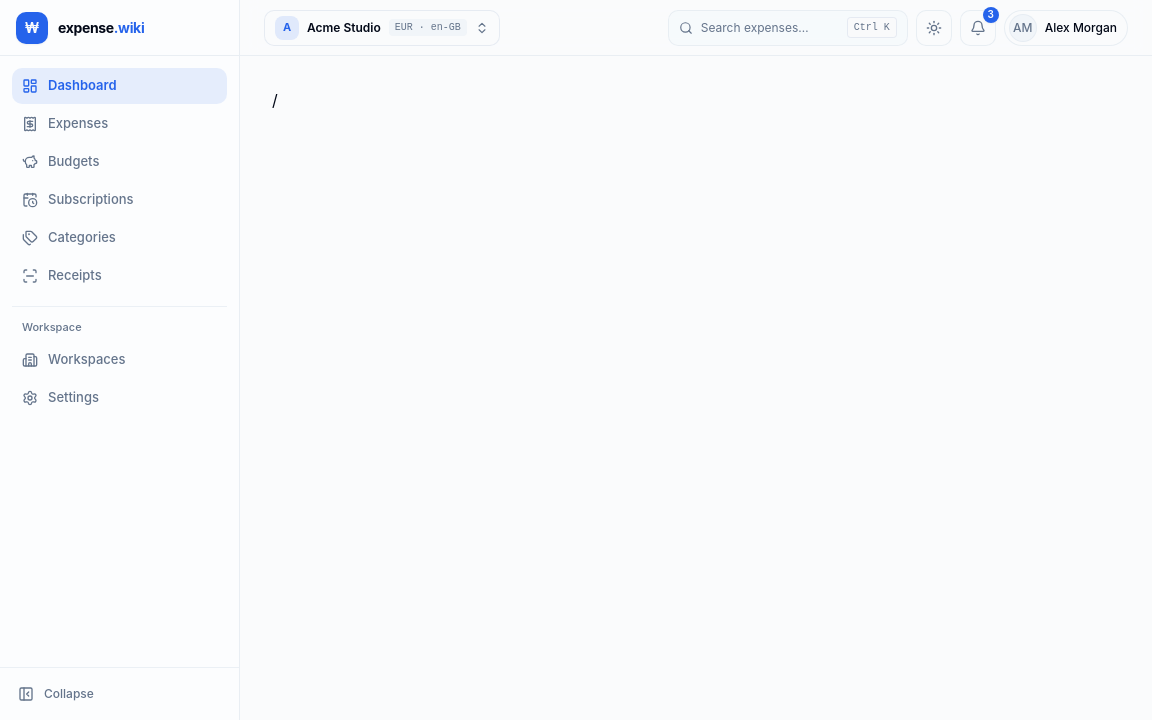
Test case: AppShell, Header, and Sidebar layout › marks notifications as read and removes broken /dashboard footer link
Click the button named "Notifications (3 unread)". click: (978, 28)
box: [960, 10, 996, 46]
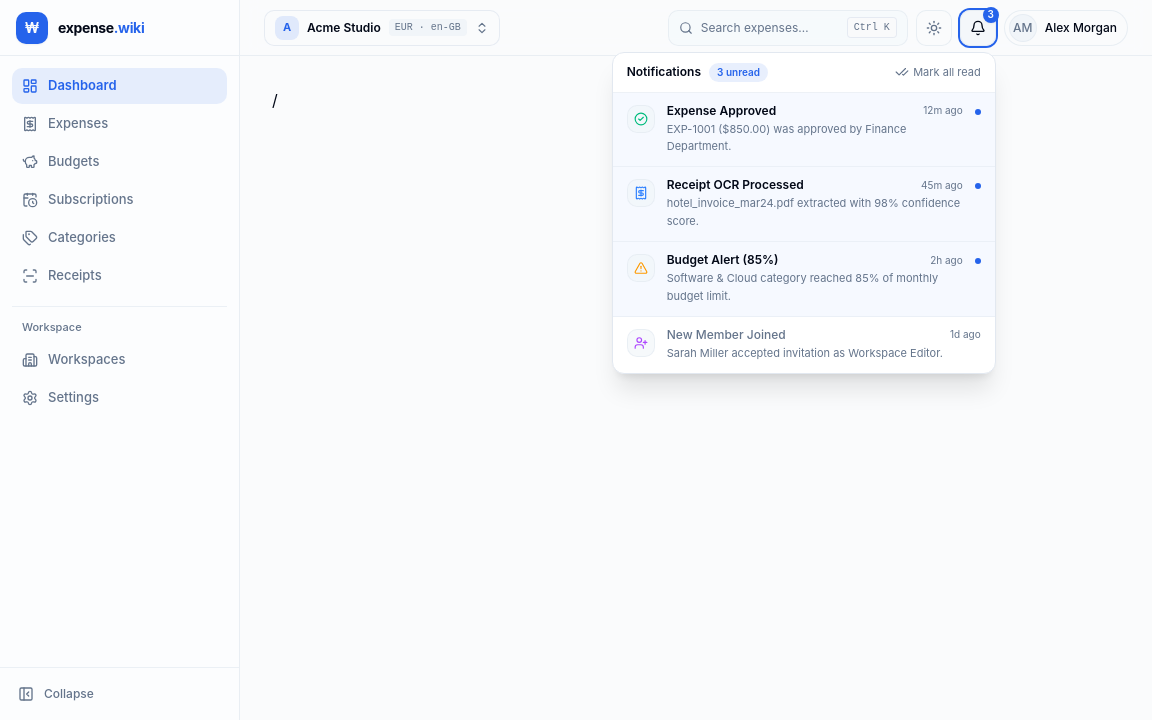
Click the button "Mark all read". click: (938, 72)
box: [895, 64, 981, 80]
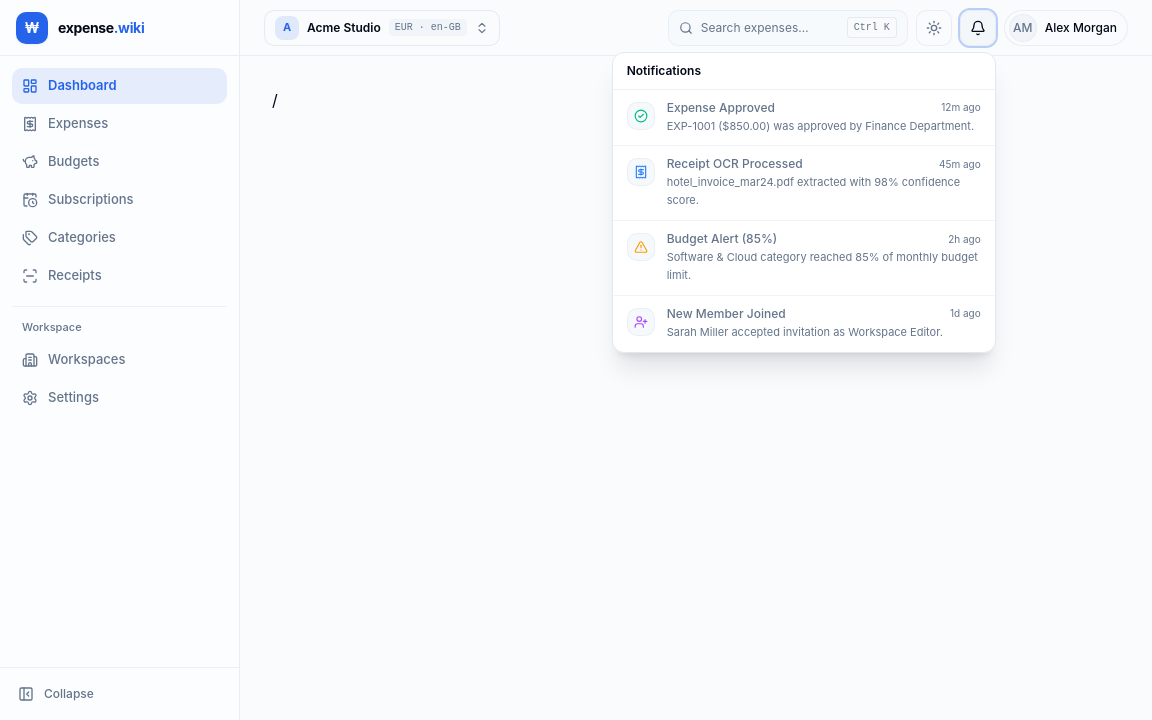
Expected: the button named "Notifications" is shown, [960, 10, 996, 46]
Press Escape
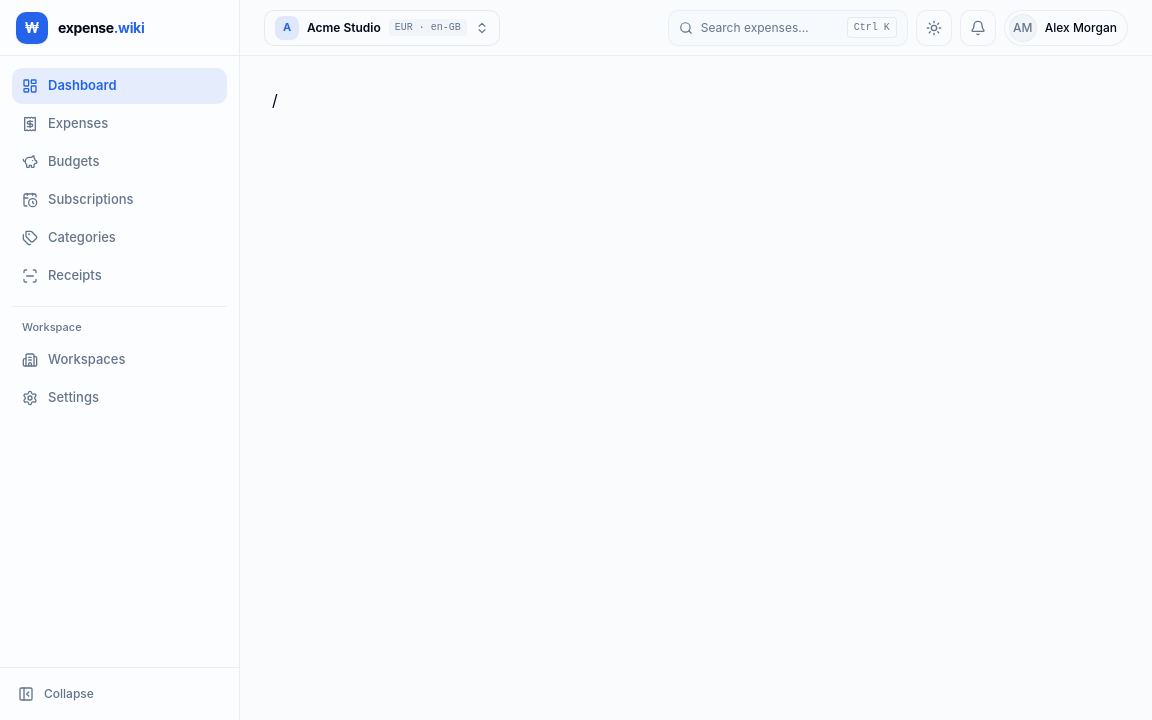
Now the text "Notifications" is gone
